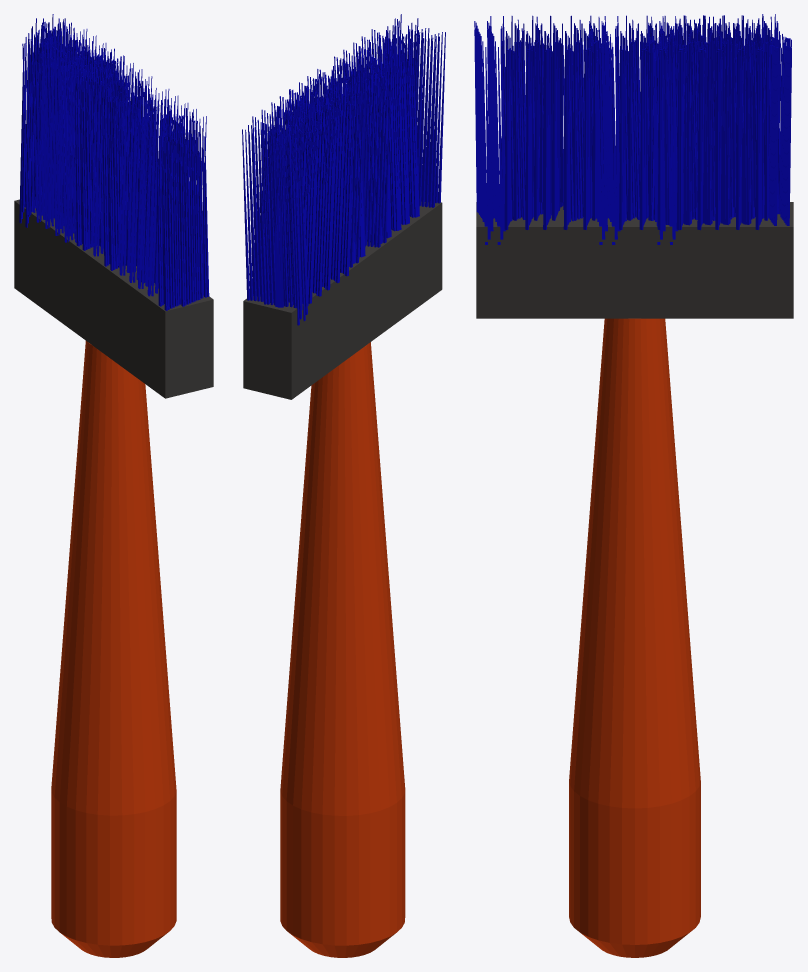
The model's file is Kwastblauw.obj.
The picture shows the model from 3 angles, left to right: view 1: azimuth 30°, elevation 25°; view 2: azimuth 150°, elevation 25°; view 3: azimuth 270°, elevation 25°; orthographic projection. The views are drawn at different scales.
Visible parts, largest first — view 1: Cylinder, Cube.001_Cube, Cube_Cube.001; view 2: Cylinder, Cube.001_Cube, Cube_Cube.001; view 3: Cylinder, Cube.001_Cube, Cube_Cube.001.
Part boxes in pixels (x1,y1,x2,y2): Cylinder: [51, 341, 176, 957]; Cube.001_Cube: [19, 14, 209, 310]; Cube_Cube.001: [14, 199, 213, 398]; Cylinder: [280, 342, 405, 957]; Cube.001_Cube: [242, 14, 445, 325]; Cube_Cube.001: [243, 202, 442, 399]; Cylinder: [569, 318, 700, 957]; Cube.001_Cube: [474, 14, 791, 244]; Cube_Cube.001: [476, 202, 793, 318].
Bounding box in the file's own units: 2 × 15.44 × 4.84.
